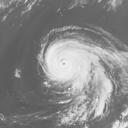cyclone: (37, 26, 114, 97)
